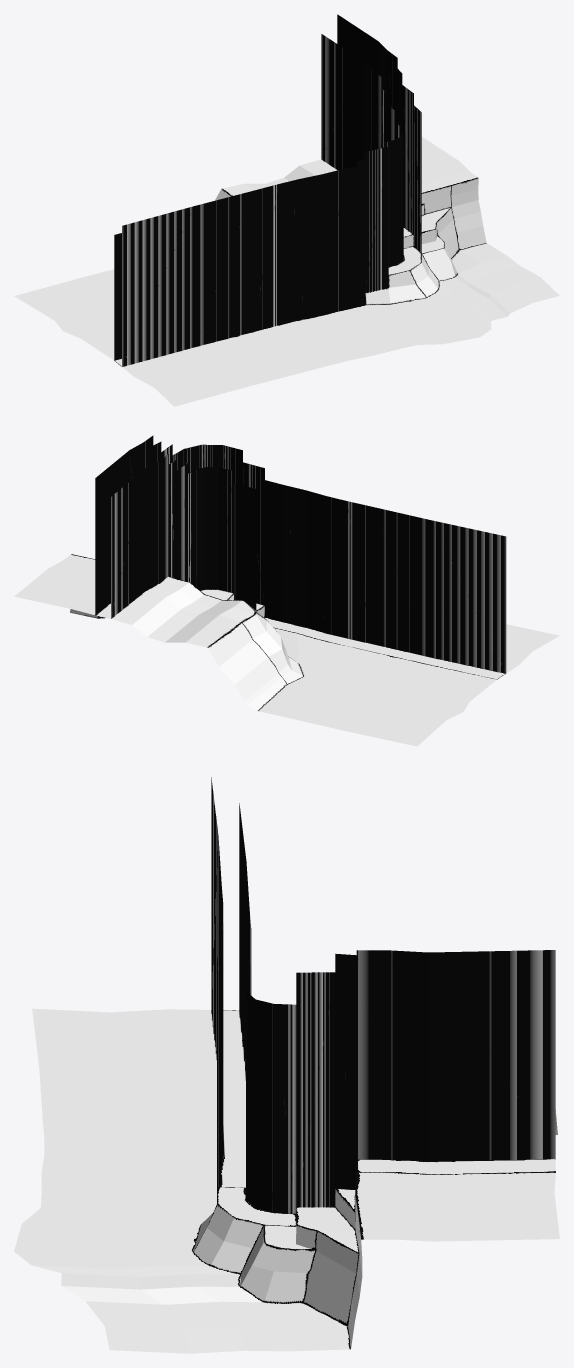
The model's file is Area7Mesh.fbx.
3 views of the same model, one above another, from view 1: azimuth 30°, elevation 25°; view 2: azimuth 150°, elevation 25°; view 3: azimuth 270°, elevation 25° (orthographic). The views are drawn at different scales.
Parts seen in each view (by area): view 1: Wall2, Terrain, Wall1, Path; view 2: Wall2, Terrain, Wall1, Path; view 3: Terrain, Wall1, Wall2, Path.
Boxes of the visible parts, x1,y1,x2,y2 form: Wall2: (122, 14, 421, 366); Terrain: (14, 136, 559, 406); Wall1: (114, 34, 403, 360); Path: (114, 227, 421, 366); Wall2: (95, 435, 506, 673); Terrain: (14, 554, 559, 746); Wall1: (111, 454, 256, 618); Path: (96, 603, 505, 679); Terrain: (14, 1008, 559, 1353); Wall1: (239, 803, 555, 1213); Wall2: (211, 777, 356, 1207); Path: (217, 1010, 555, 1226).
Size of the model in its own units: 9412 by 4389 by 6370.
1 material, 1 textured.
